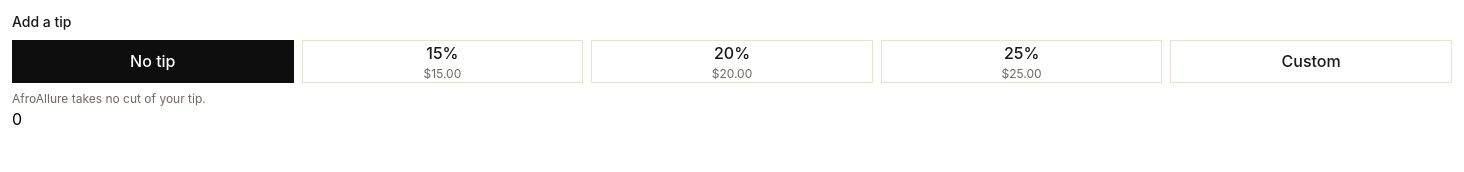
TipPicker › saves a preset and highlights it
Click the button "20% $20.00".
click(732, 61)  # box [591,40,873,83]
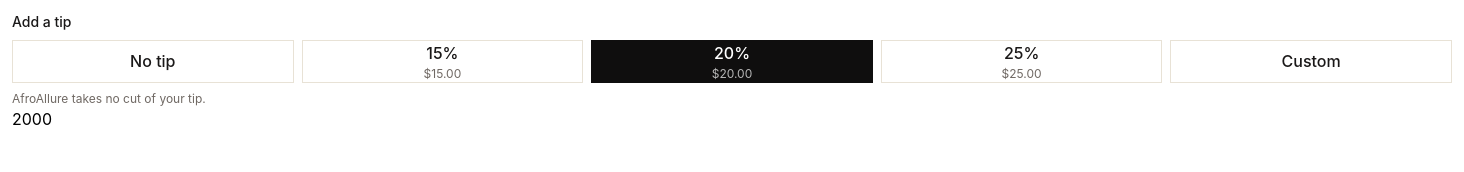
Expected: the text with test id "tip" reads "2000", [12,109,52,129]
